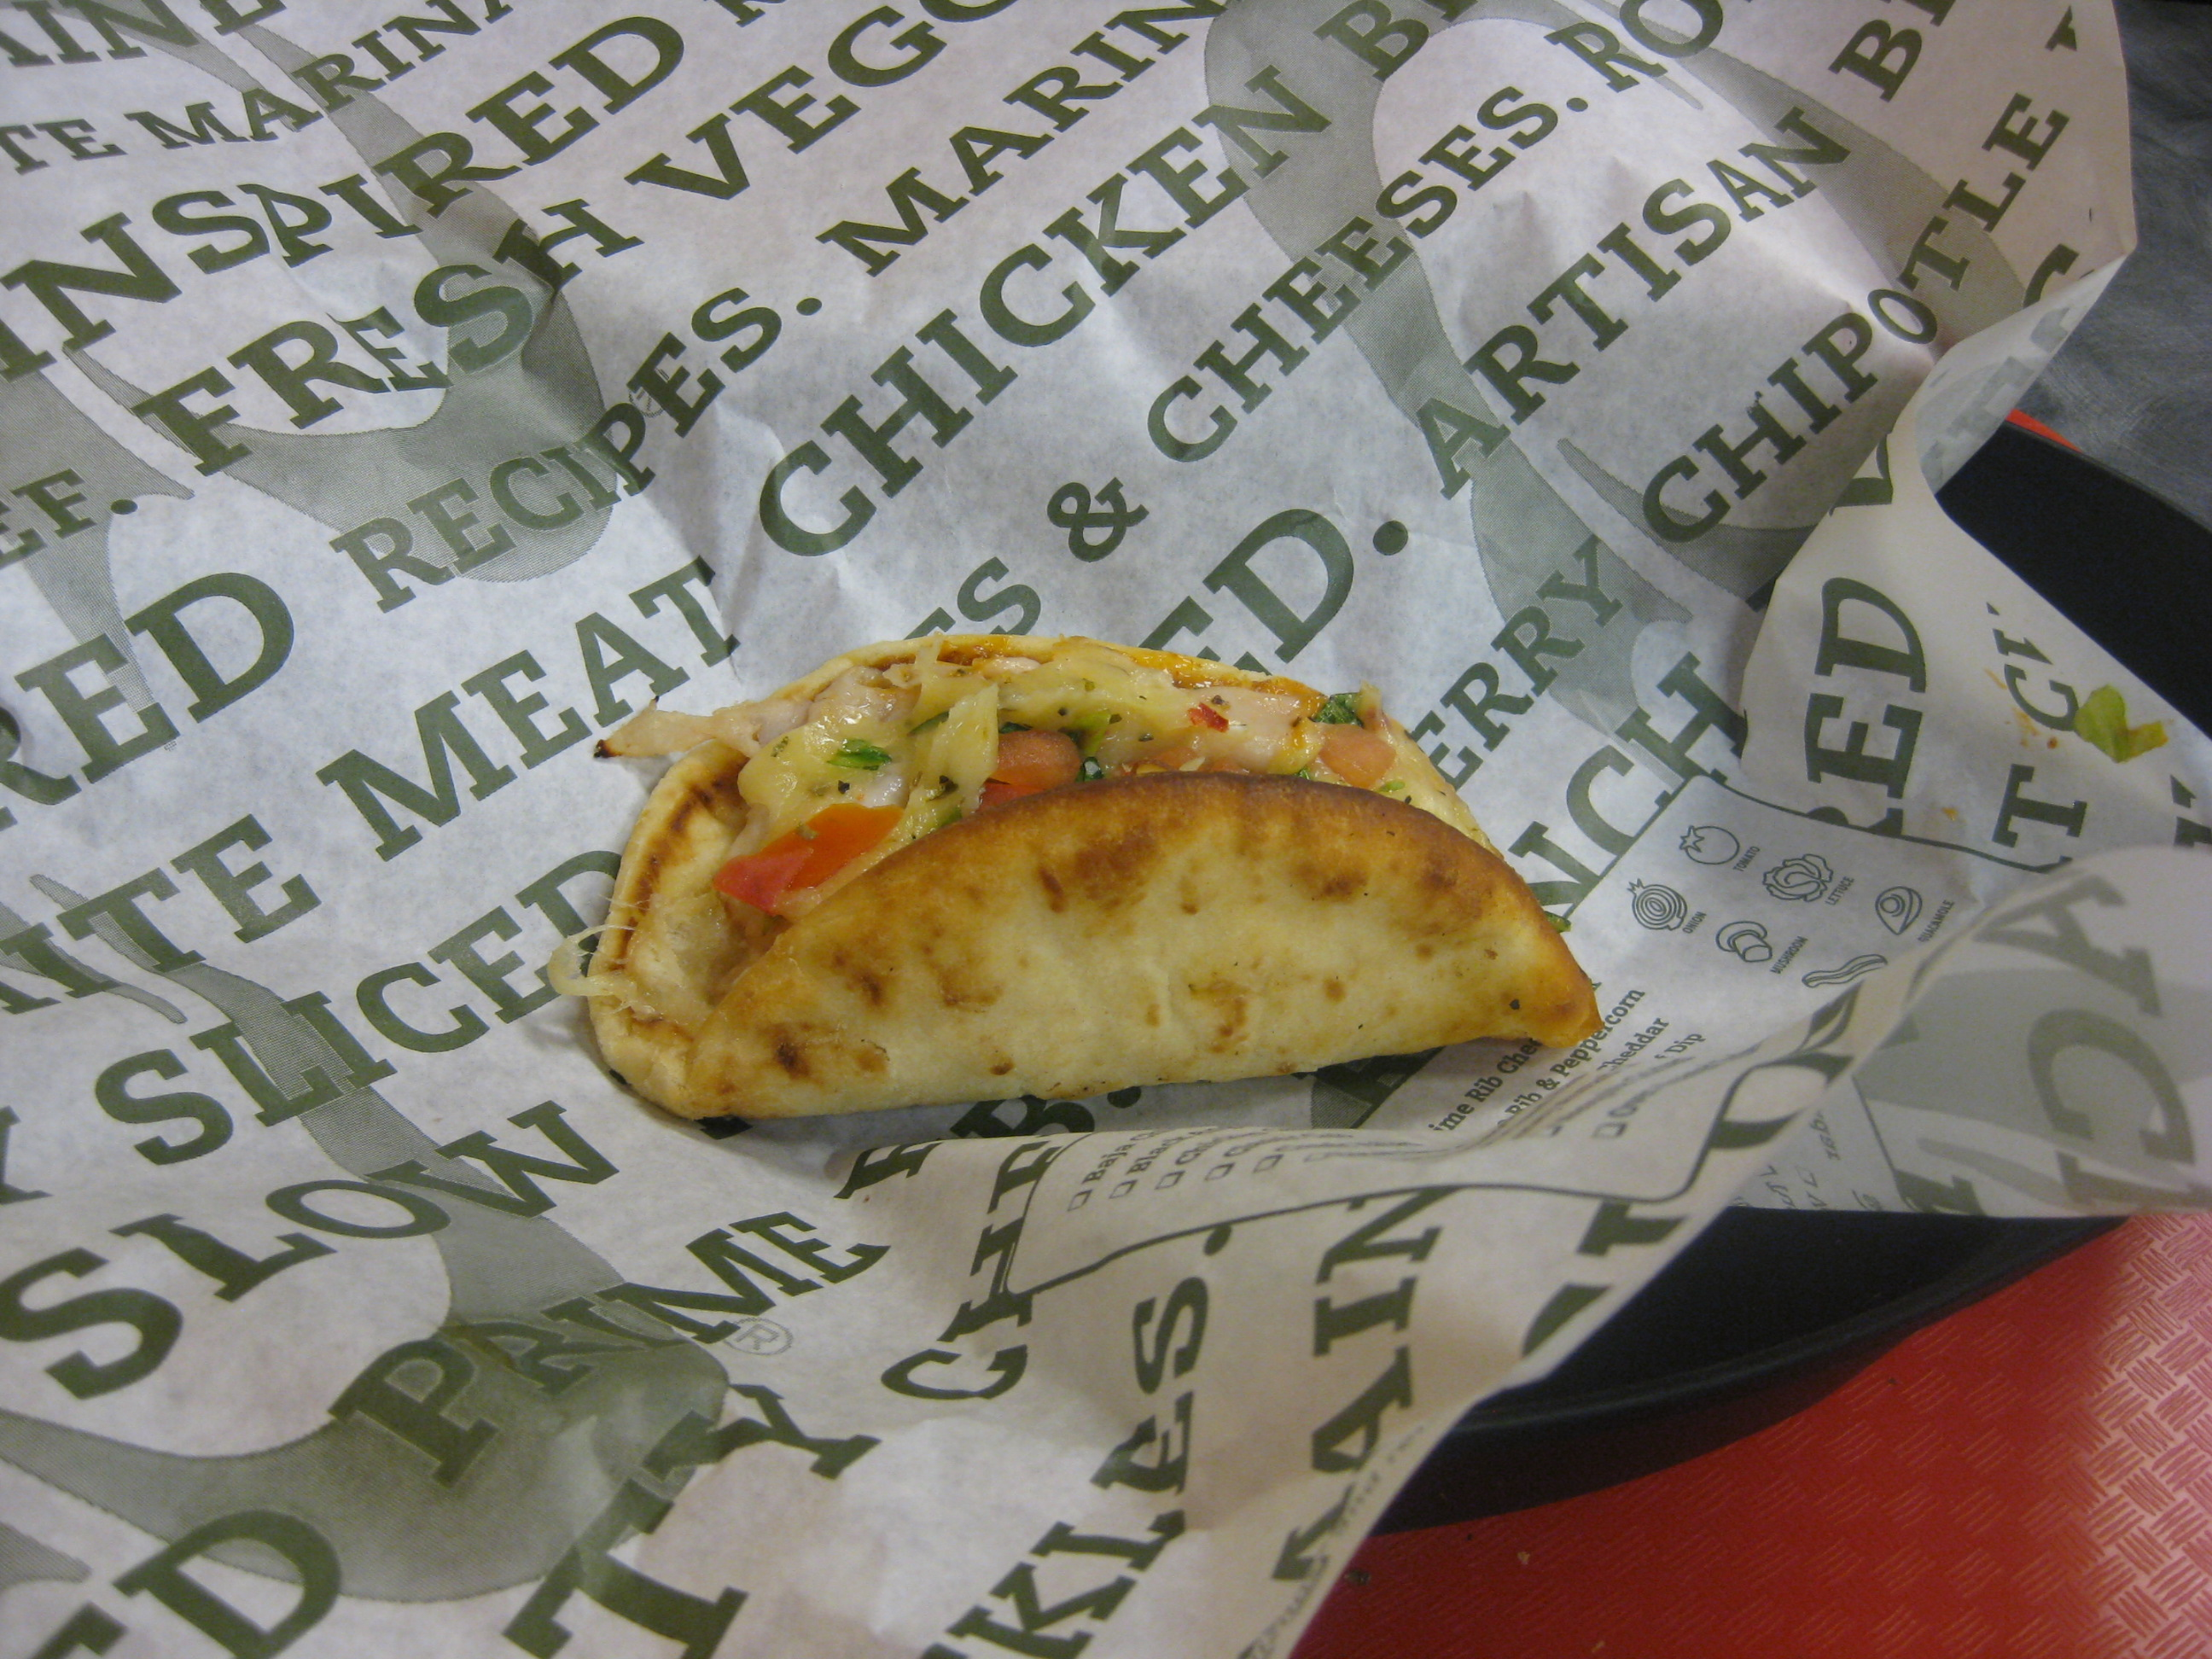taco: (545, 597, 1687, 1177)
